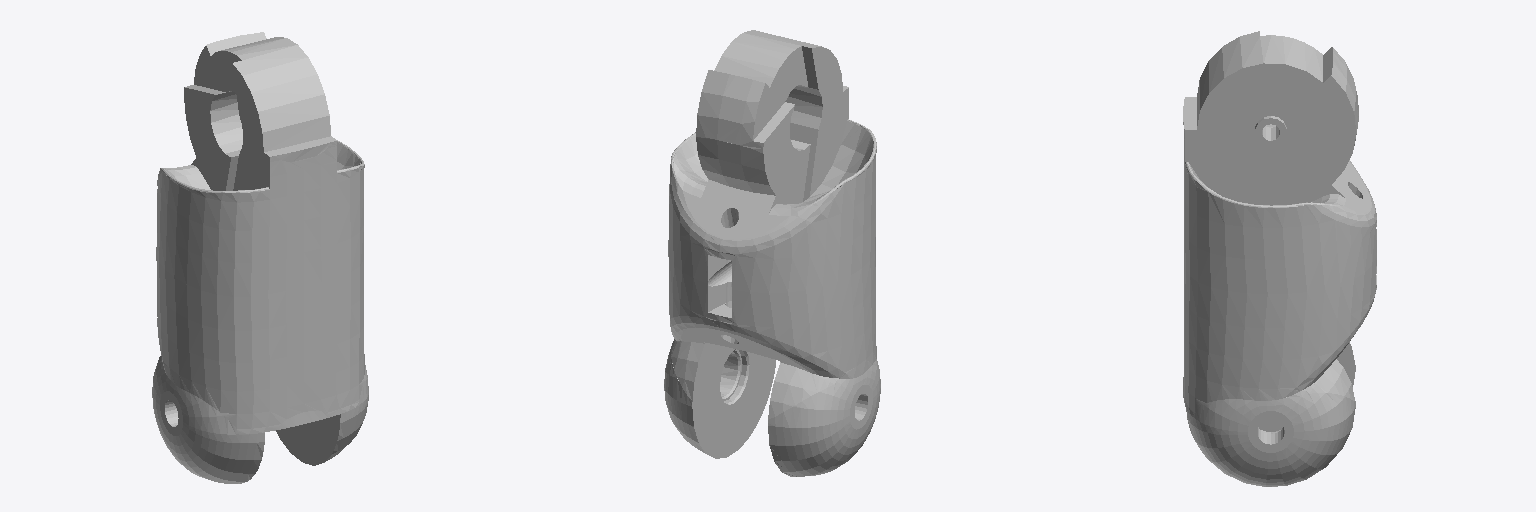
File: armar-7_thumb_proximal.obj
The picture shows the model from 3 angles: view 1: azimuth 30°, elevation 25°; view 2: azimuth 150°, elevation 25°; view 3: azimuth 270°, elevation 25°; orthographic projection.
Bounding box in the file's own units: 0.0222 × 0.0498 × 0.021.